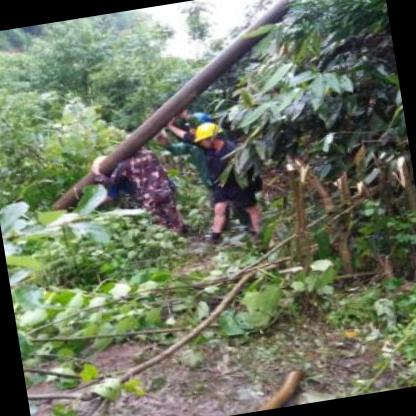helmet: (193, 117, 232, 154)
